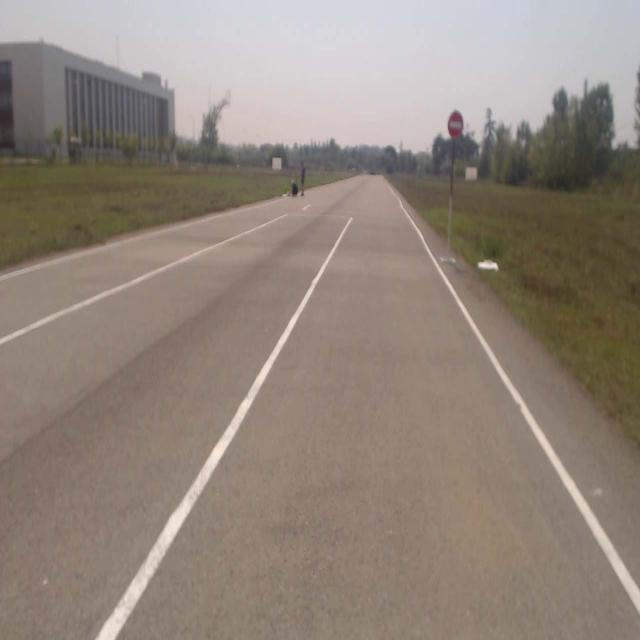girisyok: (448, 109, 464, 139)
